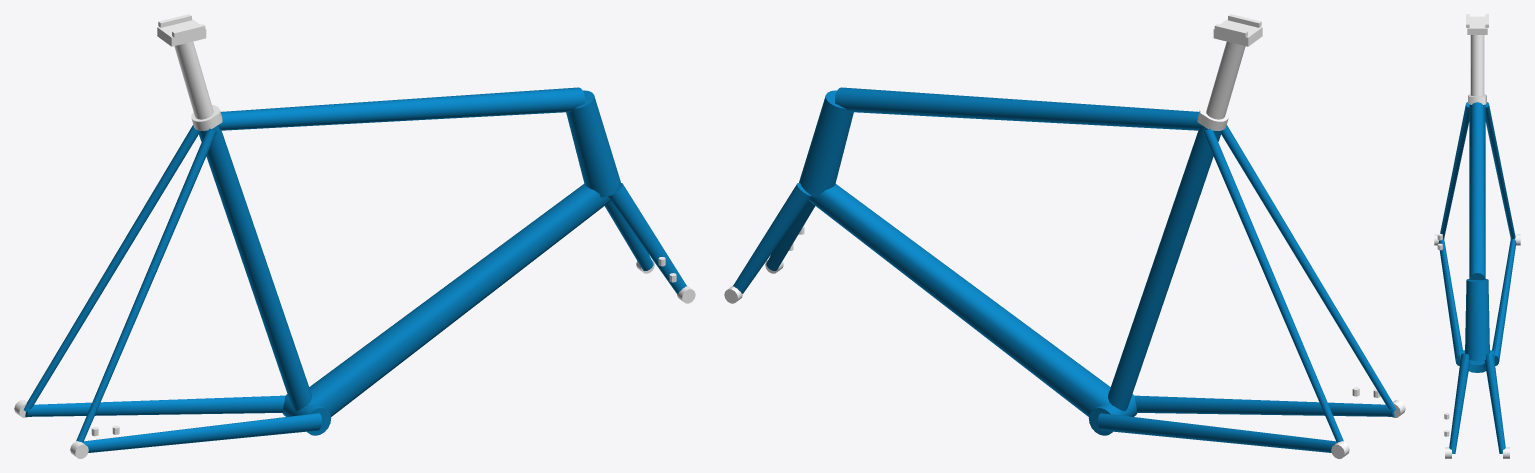
File: frame_climbing.glb
The picture shows the model from 3 angles, left to right: view 1: azimuth 30°, elevation 25°; view 2: azimuth 150°, elevation 25°; view 3: azimuth 270°, elevation 25°; orthographic projection. The views are drawn at different scales.
Visible parts, largest first — view 1: Bike_Climbing_Frameset; view 2: Bike_Climbing_Frameset; view 3: Bike_Climbing_Frameset.
Boxes of the visible parts, bbox=[...] form: Bike_Climbing_Frameset: bbox=[14, 14, 695, 458]; Bike_Climbing_Frameset: bbox=[724, 14, 1405, 458]; Bike_Climbing_Frameset: bbox=[1434, 14, 1520, 458].
Bounding box in the file's own units: 1.01 × 0.6676 × 0.17.
